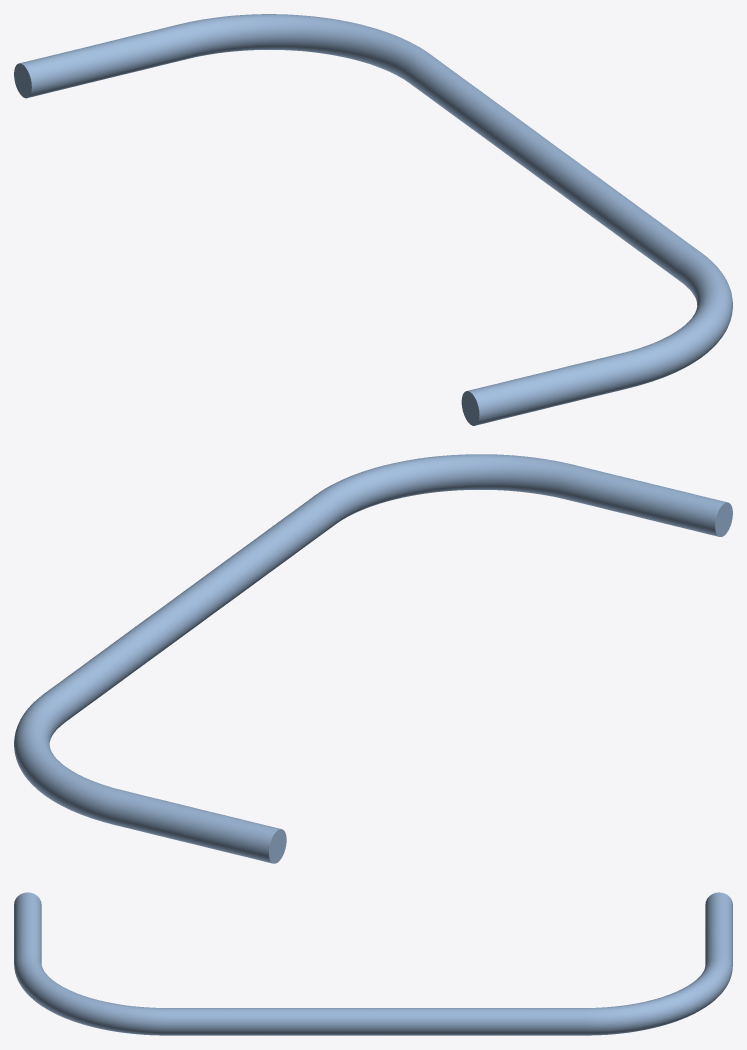
File: tread-step.gltf
3 views of the same model, one above another, from view 1: azimuth 30°, elevation 25°; view 2: azimuth 150°, elevation 25°; view 3: azimuth 270°, elevation 25° (orthographic). The views are drawn at different scales.
Visible parts, largest first — view 1: 放样 [212433]; view 2: 放样 [212433]; view 3: 放样 [212433].
Boxes of the visible parts, left/top/right/bottom form: 放样 [212433]: left=14, top=14, right=732, bottom=425; 放样 [212433]: left=14, top=454, right=732, bottom=863; 放样 [212433]: left=14, top=892, right=732, bottom=1035.
Size of the model in its own units: 0.21 by 0.02 by 0.52.
